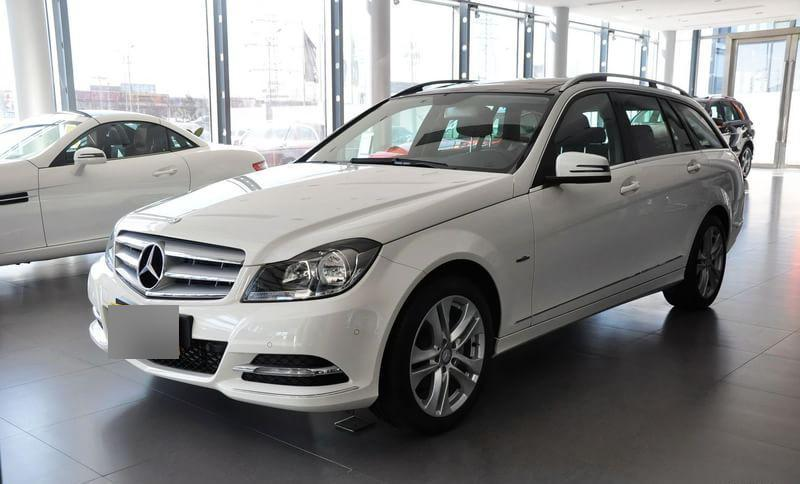Wagon: (85, 72, 746, 437)
